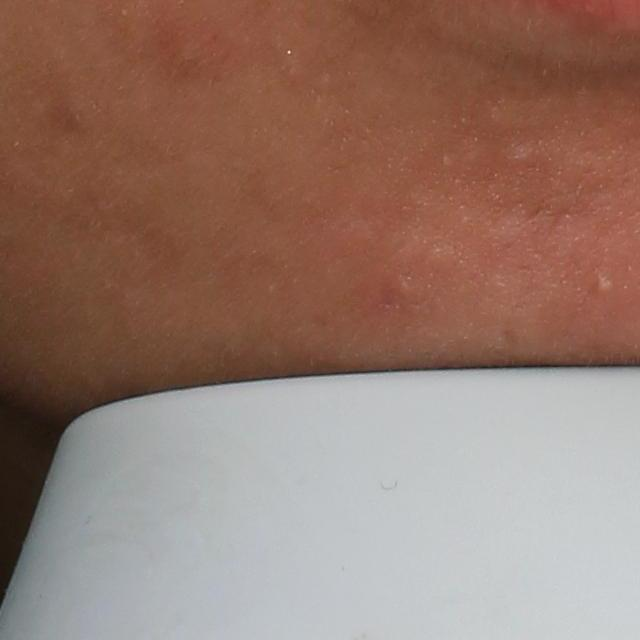comedo: (588, 266, 617, 299)
